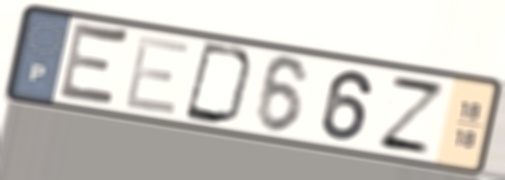6: (251, 54, 317, 137), (319, 67, 375, 144)
D: (180, 39, 259, 128)
E: (54, 17, 134, 113), (120, 33, 195, 119)
Z: (372, 72, 450, 159)
